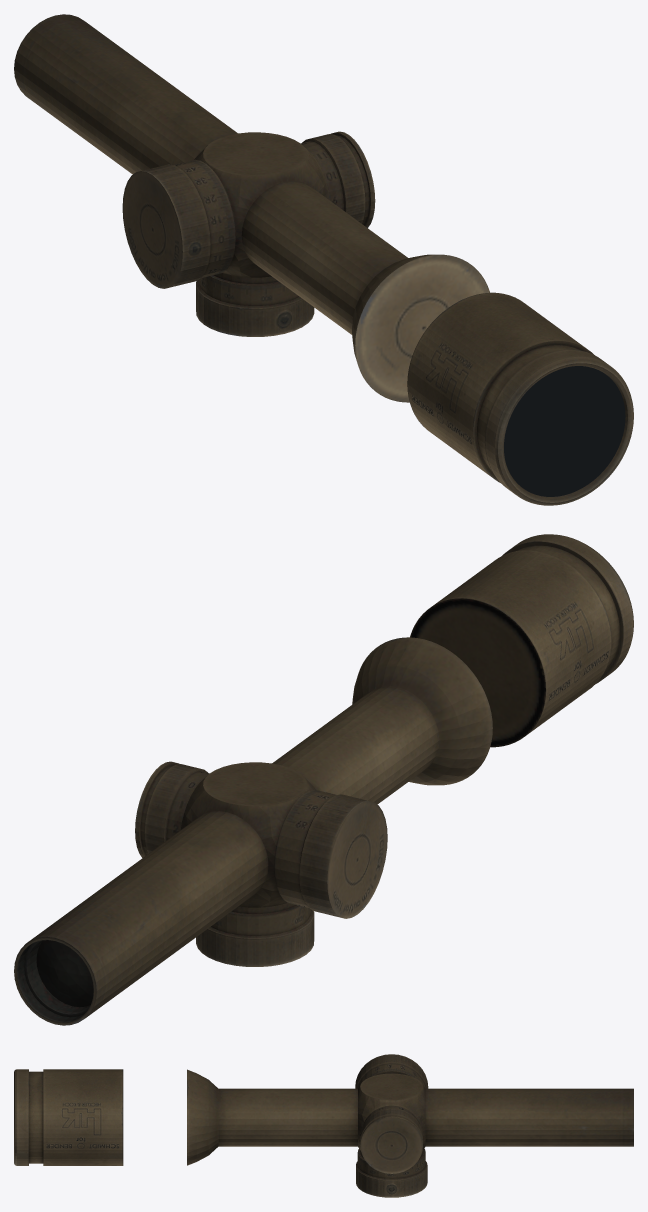
The picture shows the model from 3 angles, top to bottom: view 1: azimuth 30°, elevation 25°; view 2: azimuth 150°, elevation 25°; view 3: azimuth 270°, elevation 25°; orthographic projection. The views are drawn at different scales.
Visible parts, largest first — view 1: TW_617151c1d92c473c770214ab_PZ_Import; view 2: TW_617151c1d92c473c770214ab_PZ_Import; view 3: TW_617151c1d92c473c770214ab_PZ_Import.
Boxes of the visible parts, x1=… form: TW_617151c1d92c473c770214ab_PZ_Import: x1=14, y1=14, x2=633, y2=505; TW_617151c1d92c473c770214ab_PZ_Import: x1=14, y1=534, x2=633, y2=1025; TW_617151c1d92c473c770214ab_PZ_Import: x1=14, y1=1054, x2=633, y2=1197.
Bounding box in the file's own units: 0.0426 × 0.1919 × 0.0372.
1 material, 1 textured.
